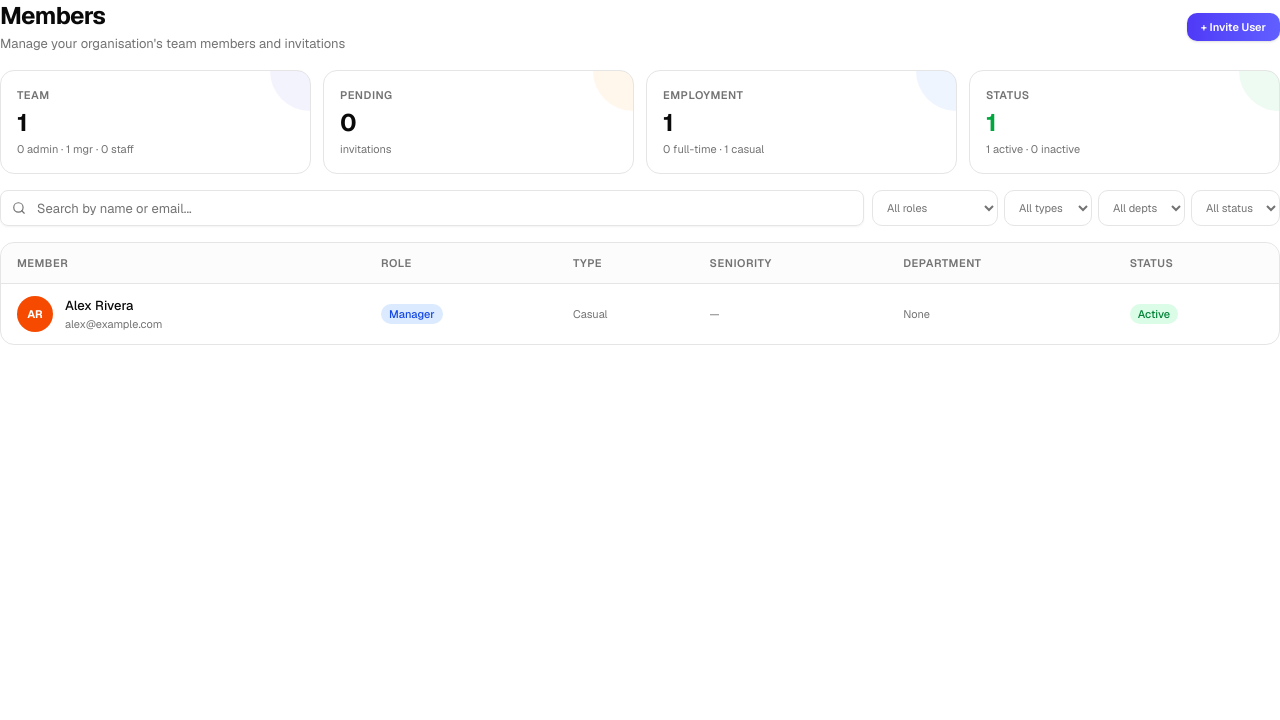
a failed edit says which fault occurred › falls back to the status code when the body says nothing
The width and height of the screenshot is (1280, 720).
Click the button with aria-label "edit": (99, 306) [65, 296, 133, 316]
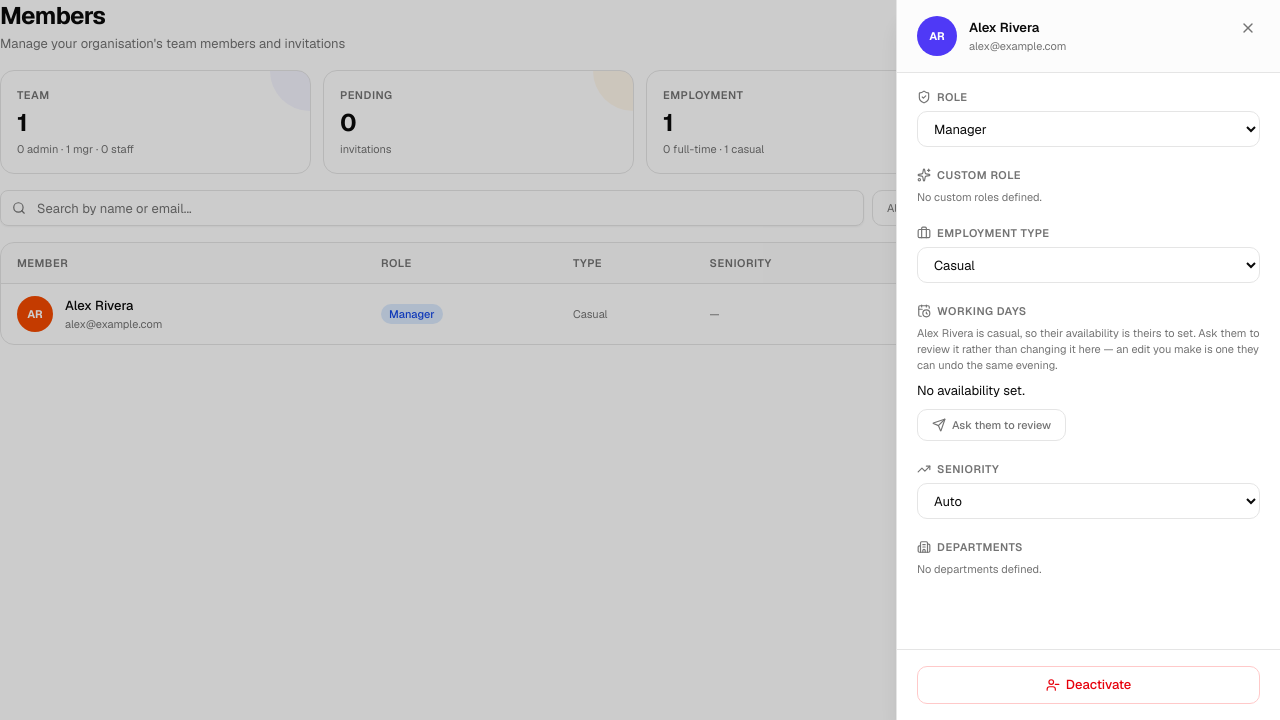
Select "Staff" in the dropdown labelled "Role": (1088, 129) [917, 111, 1260, 147]
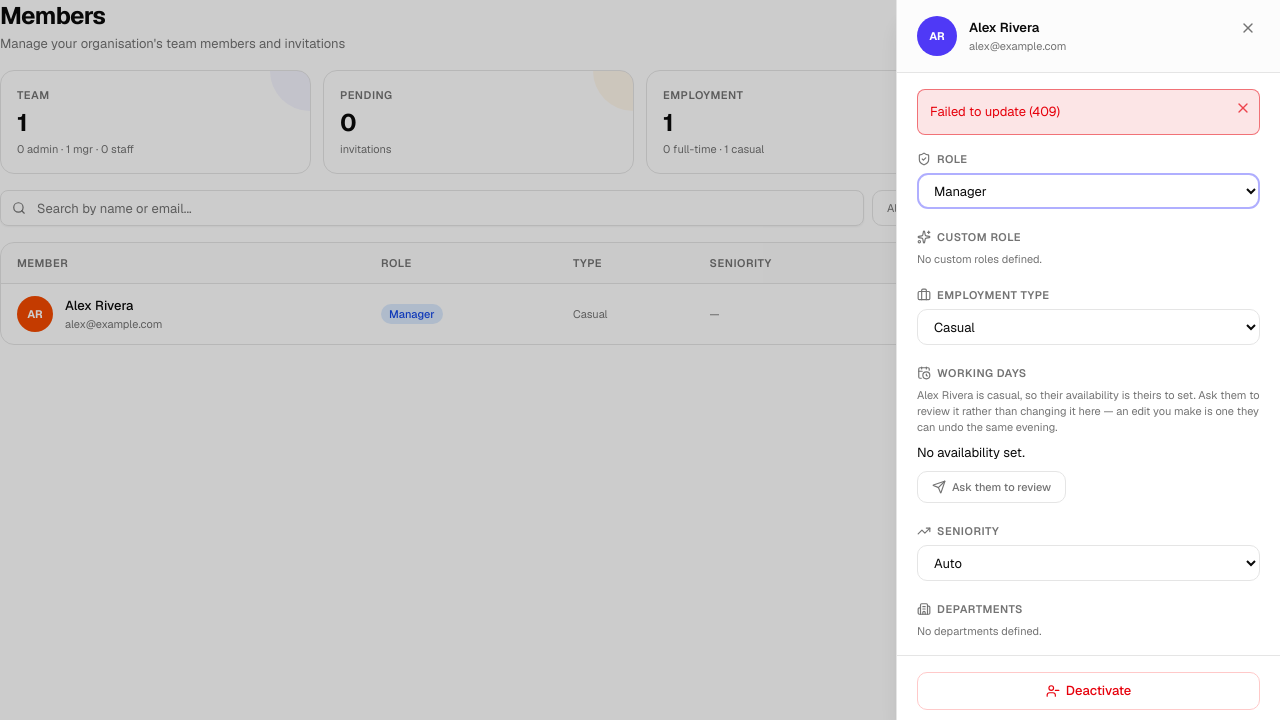
Check: the text "Failed to update (409)" is shown, box [917, 89, 1260, 135]
